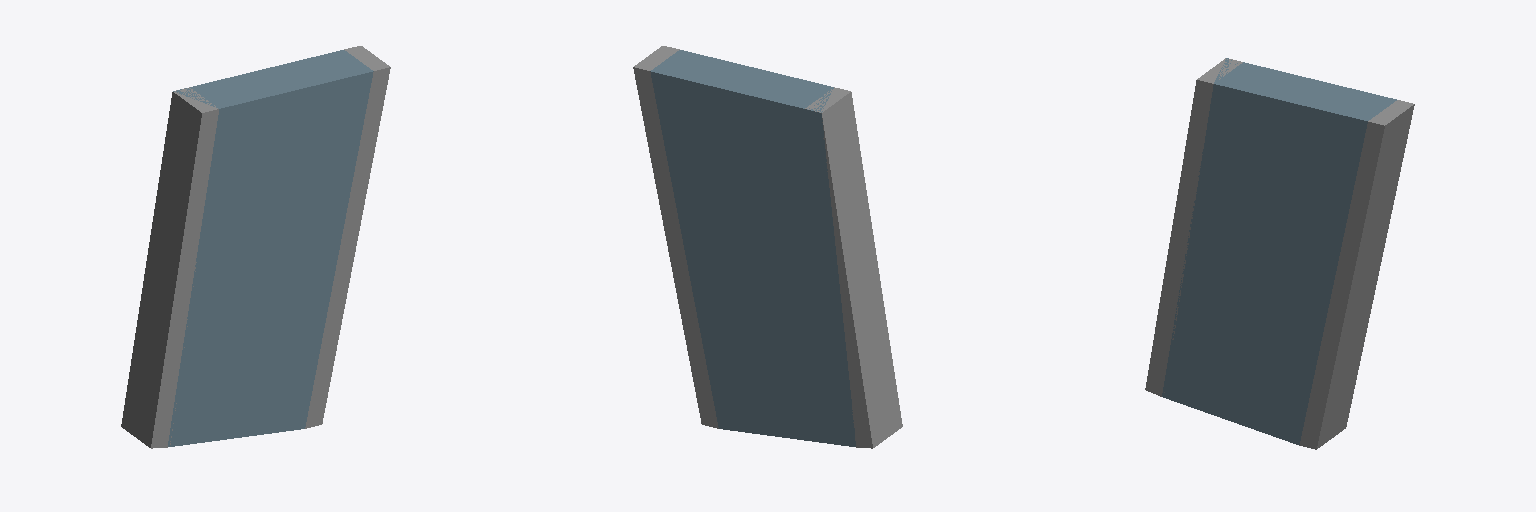
The model's file is Rifle - Ammo.obj.
3 renders of one model, left to right at view 1: azimuth 30°, elevation 25°; view 2: azimuth 150°, elevation 25°; view 3: azimuth 330°, elevation 25°, orthographic.
Visible parts, largest first — view 1: group[number redacted], group[number redacted], group[number redacted]; view 2: group[number redacted], group[number redacted], group[number redacted]; view 3: group[number redacted], group[number redacted], group[number redacted].
Boxes of the visible parts, x1,y1,x2,y2 form: group[number redacted]: [168, 50, 373, 446]; group[number redacted]: [121, 87, 218, 448]; group[number redacted]: [305, 46, 390, 428]; group[number redacted]: [650, 50, 855, 446]; group[number redacted]: [805, 87, 902, 448]; group[number redacted]: [633, 46, 718, 428]; group[number redacted]: [1162, 58, 1396, 444]; group[number redacted]: [1299, 100, 1414, 449]; group[number redacted]: [1145, 58, 1242, 396].
Size of the model in its own units: 0.14 by 0.19 by 0.03.